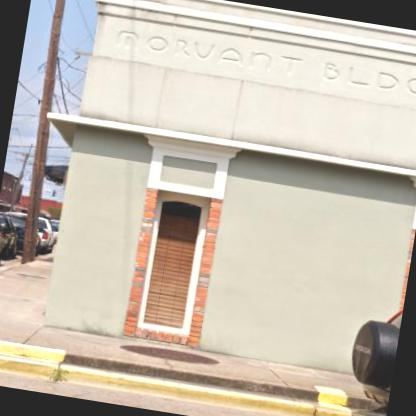car: (2, 209, 58, 252), (0, 211, 21, 269)
